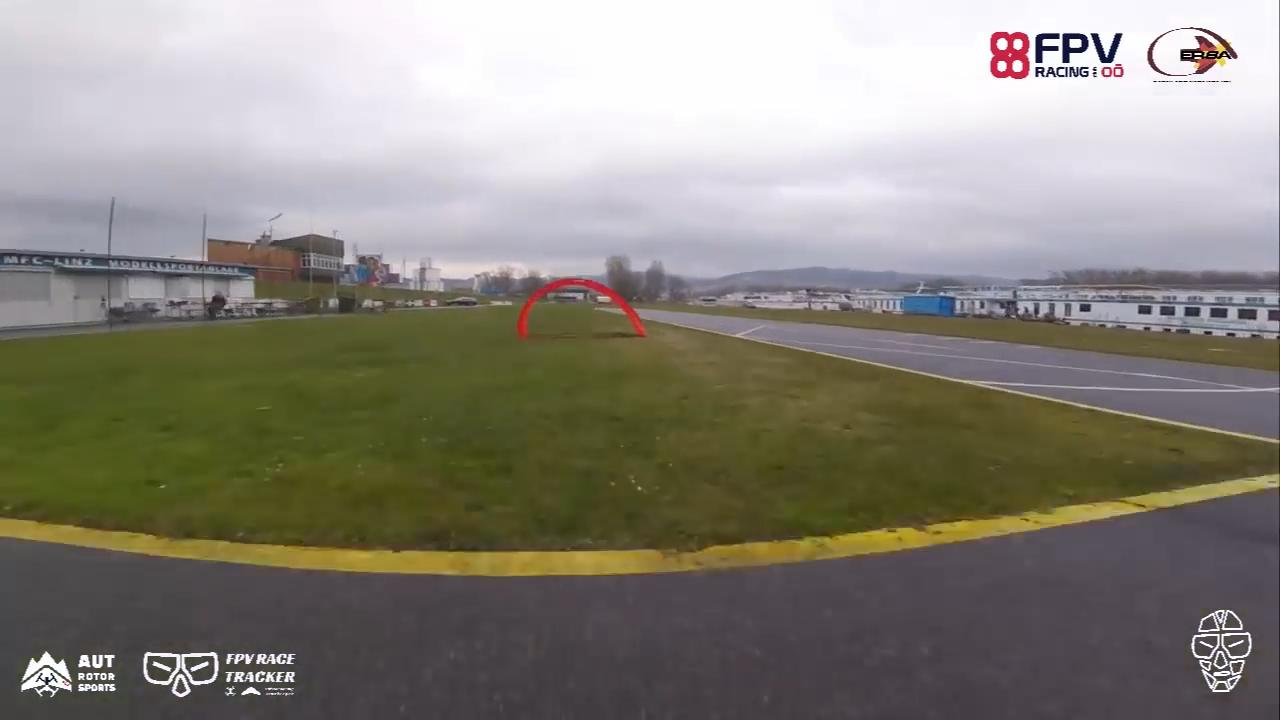gate: (513, 277, 649, 342)
